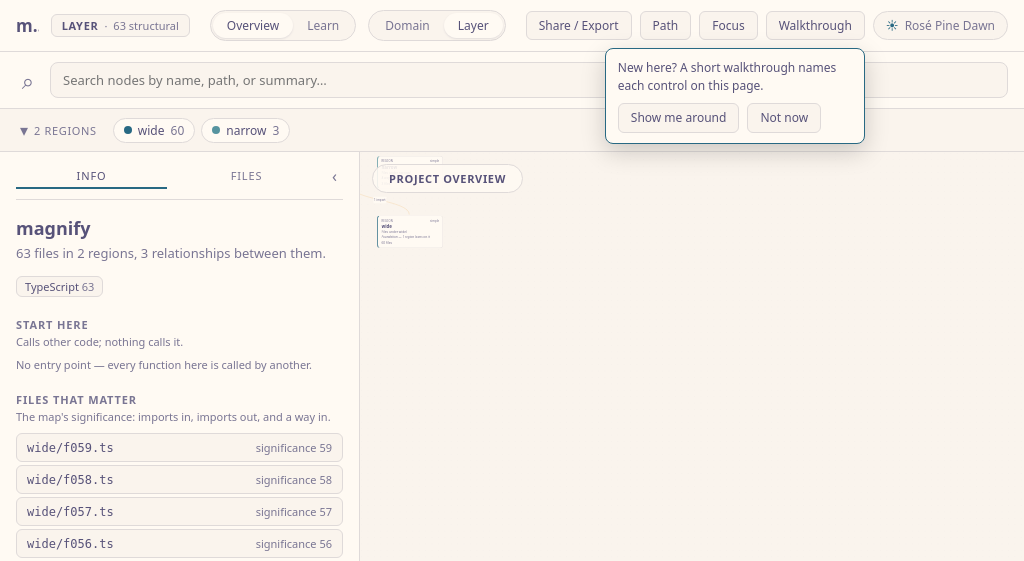
Test: magnify draws the neighbourhood › draws the hidden neighbour without writing a reveal
In the search field labelled "Search nodes": [529, 80] box [50, 62, 1008, 98], type "wide/f059.ts"
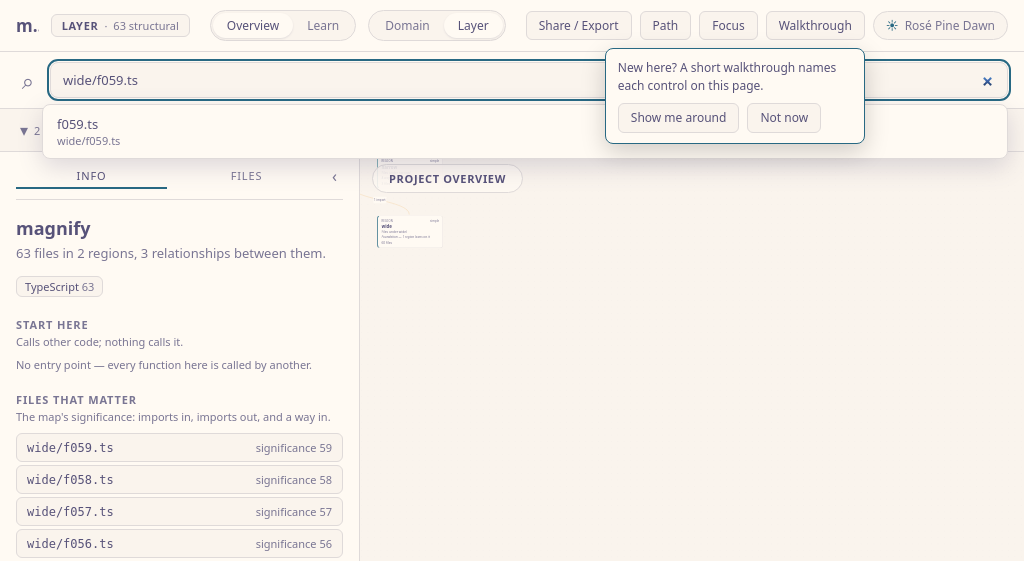
Click the 1st text "wide/f059.ts": [89, 140] box [57, 133, 120, 148]
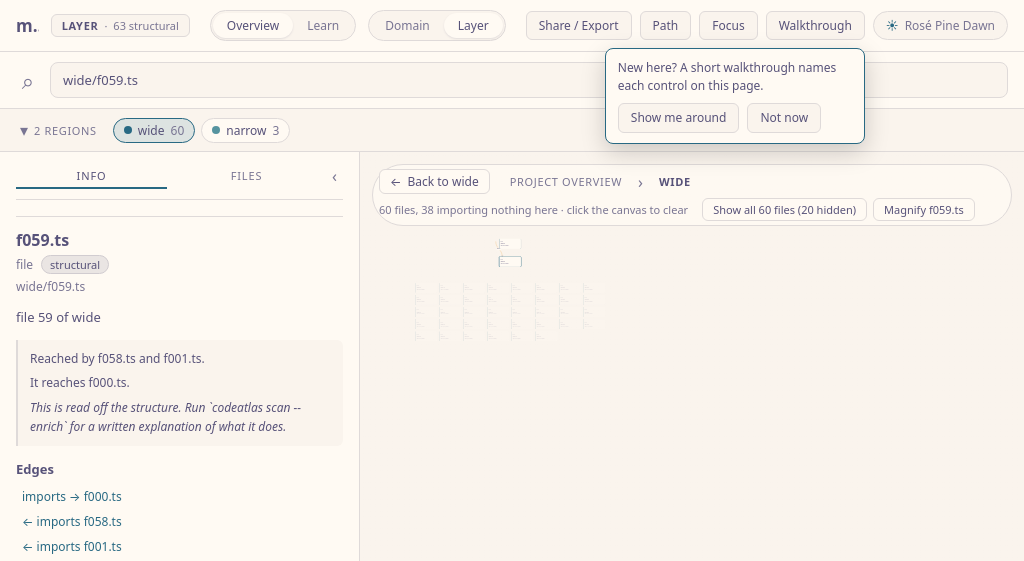
Clear the search field named "Search nodes": [529, 80] box [50, 62, 1008, 98]
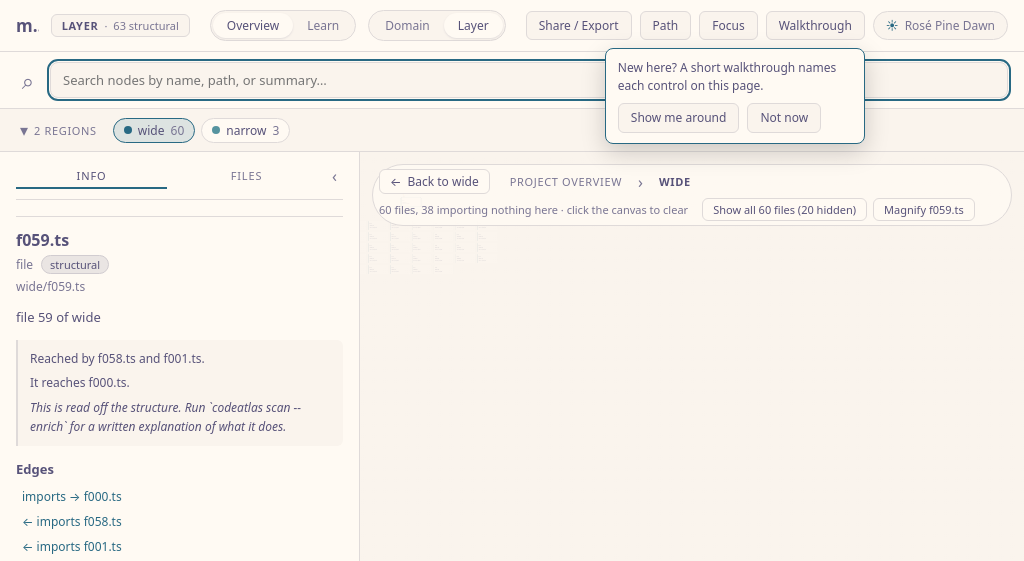
Click the button "Magnify f059.ts": [924, 210] box [873, 198, 975, 221]
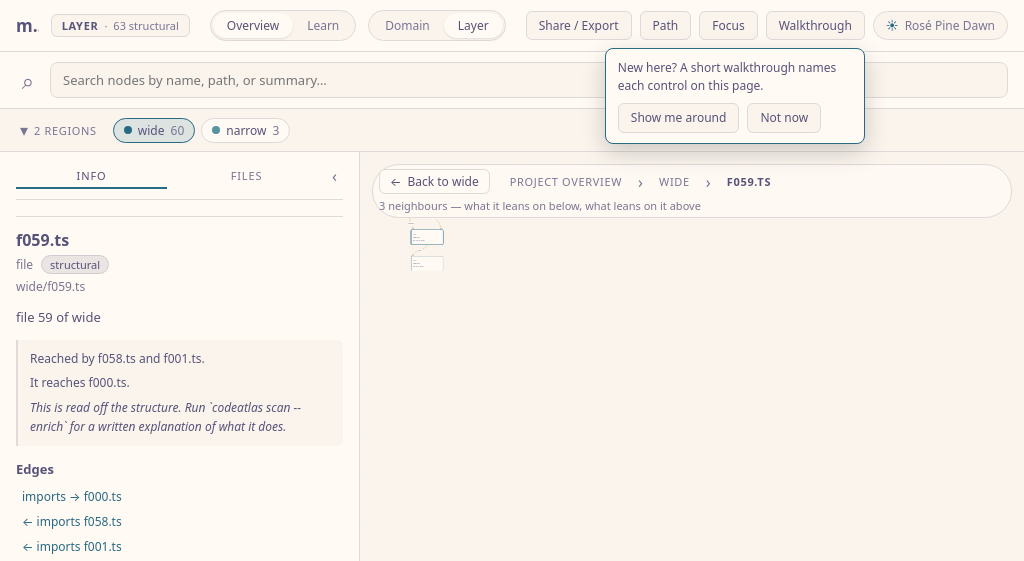
Click the button with test id "back": [434, 182] box [379, 169, 490, 194]
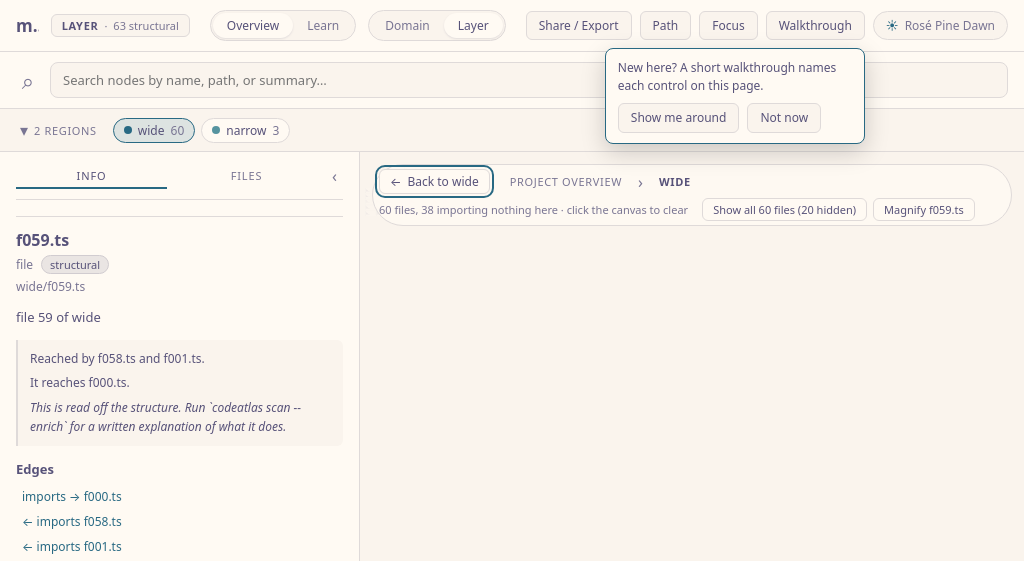
Result: the button "Show all 60 files (20 hidden)" is shown at [702, 198, 867, 221]
